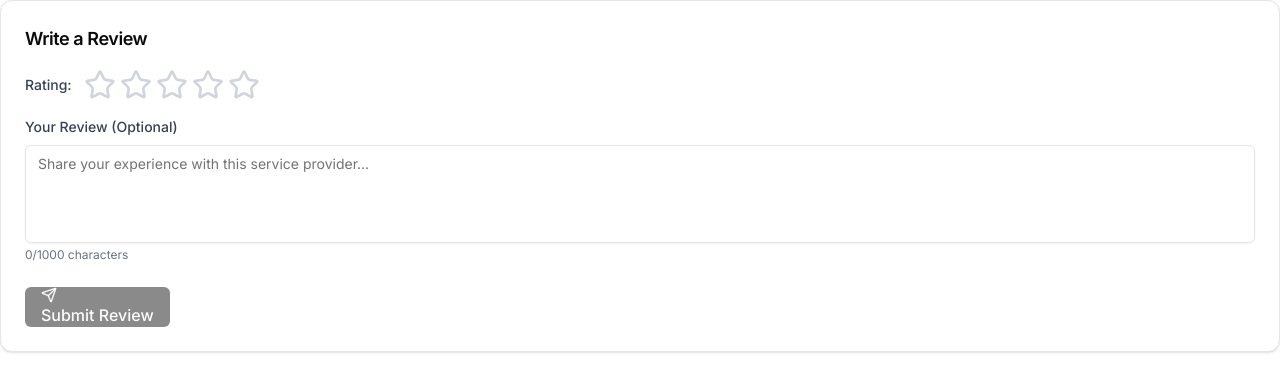
ReviewForm › allows user to select rating
Click the 4th button: x=208, y=85 left=192, top=69, right=224, bottom=101
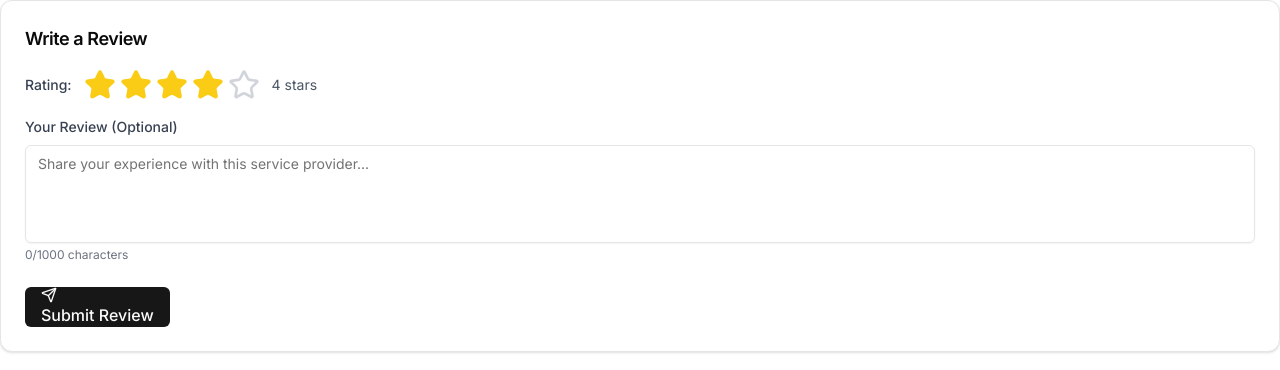
Now the text "4 stars" is shown, box left=272, top=75, right=317, bottom=95
